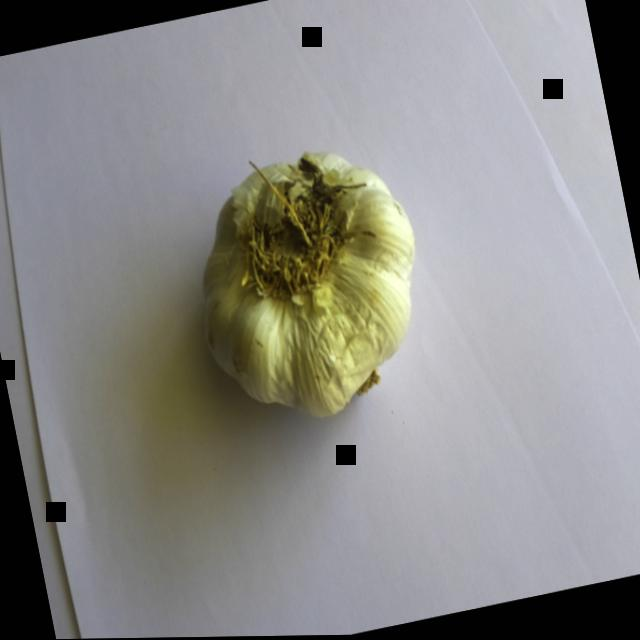Garlic: (163, 111, 449, 453)
